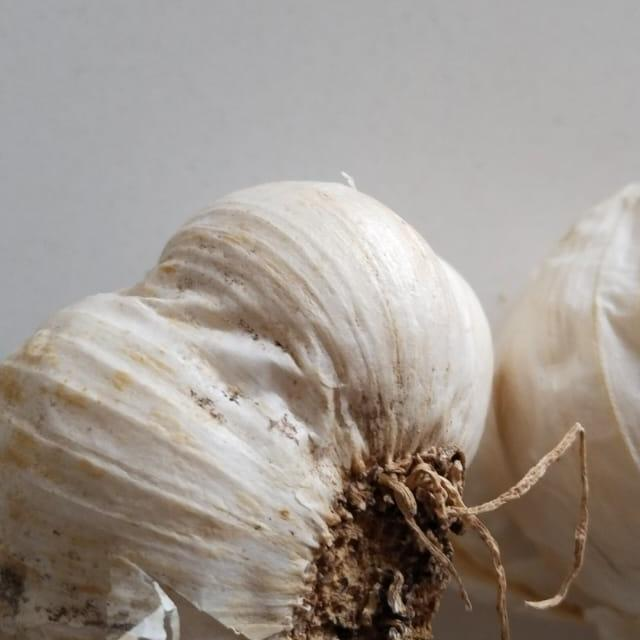garlic: (0, 143, 486, 640)
